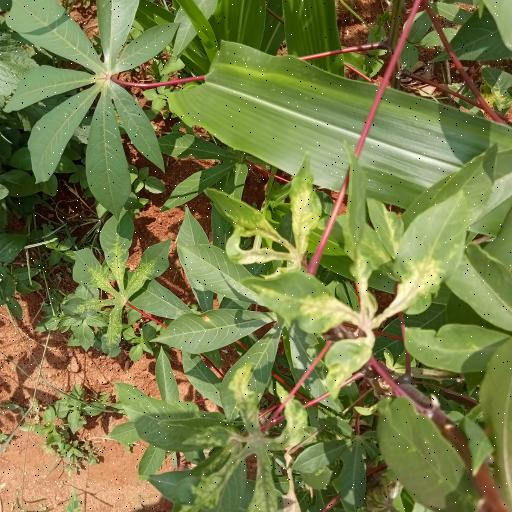Cassava_Brown_Leaf_Spot: (251, 187, 474, 398)
Cassava_Healthy: (4, 0, 178, 214)
